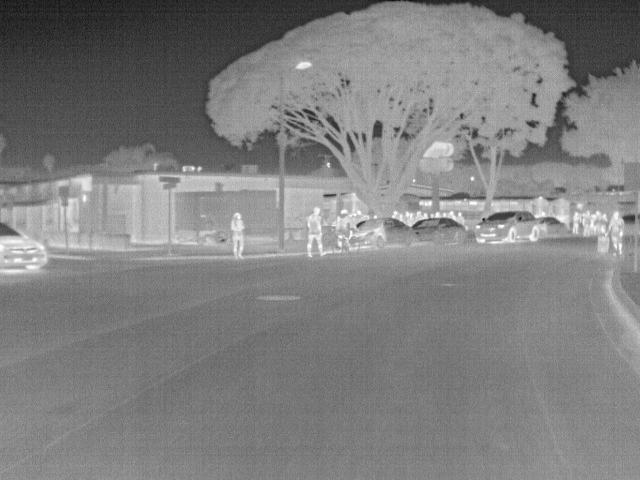car: (1, 218, 50, 276), (474, 211, 542, 244), (350, 216, 417, 248), (409, 216, 471, 244), (537, 216, 571, 240)
person: (304, 207, 328, 258), (606, 209, 625, 258), (332, 206, 358, 241), (230, 210, 246, 257), (580, 209, 593, 238), (597, 212, 610, 236), (569, 210, 581, 234), (454, 209, 467, 230), (403, 212, 416, 228), (395, 213, 405, 222)
